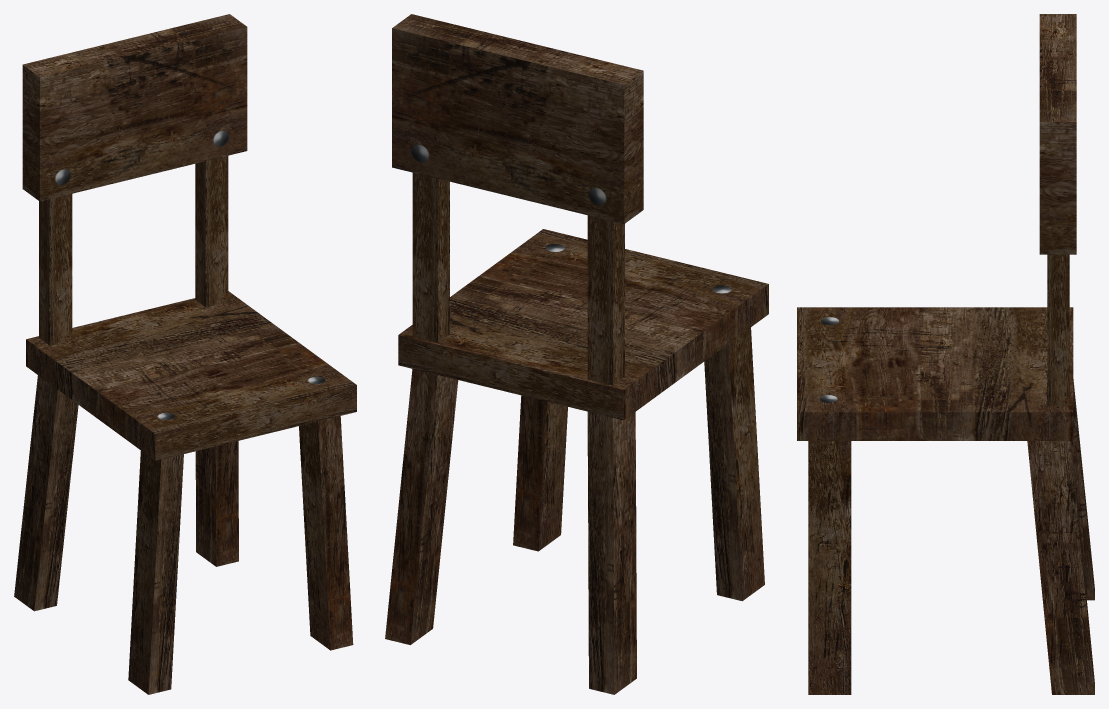
The model's file is Chair.fbx.
3 renders of one model, left to right at view 1: azimuth 30°, elevation 25°; view 2: azimuth 150°, elevation 25°; view 3: azimuth 270°, elevation 25°, orthographic. The views are drawn at different scales.
Parts seen in each view (by area): view 1: Chair:Mesh; view 2: Chair:Mesh; view 3: Chair:Mesh.
Boxes of the visible parts, x1,y1,x2,y2 form: Chair:Mesh: [14, 14, 356, 694]; Chair:Mesh: [385, 14, 768, 694]; Chair:Mesh: [797, 14, 1094, 694].
Bounding box in the file's own units: 0.4952 × 1.23 × 0.5778.
